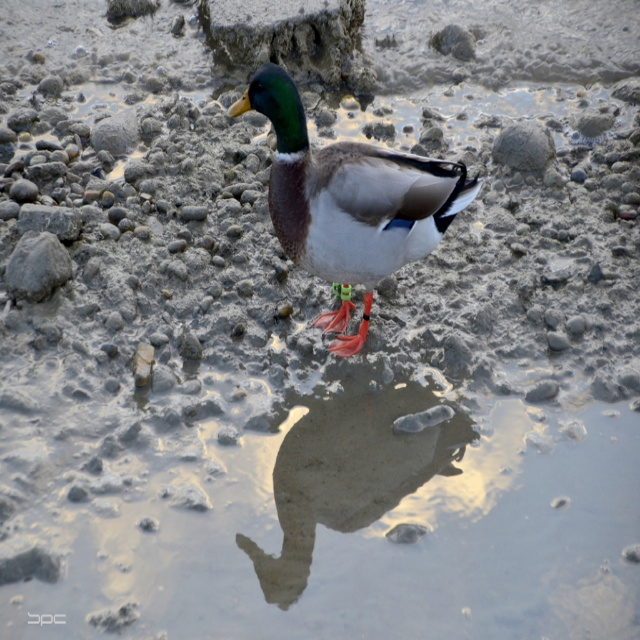Duck: (225, 62, 485, 358)
